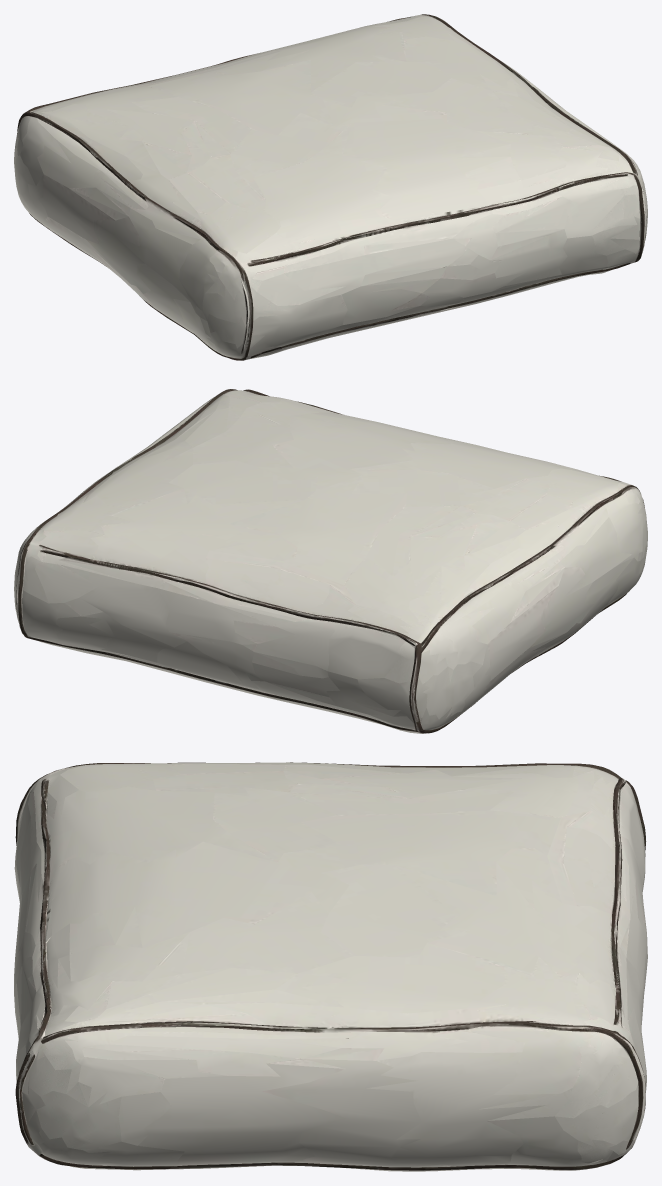
The model's file is floor_cushion.glb.
3 views of the same model, one above another, from view 1: azimuth 30°, elevation 25°; view 2: azimuth 150°, elevation 25°; view 3: azimuth 270°, elevation 25° (orthographic). The views are drawn at different scales.
Bounding box in the file's own units: 1.9 × 0.5503 × 1.73.
Materials: 1 (1 with a texture image).
